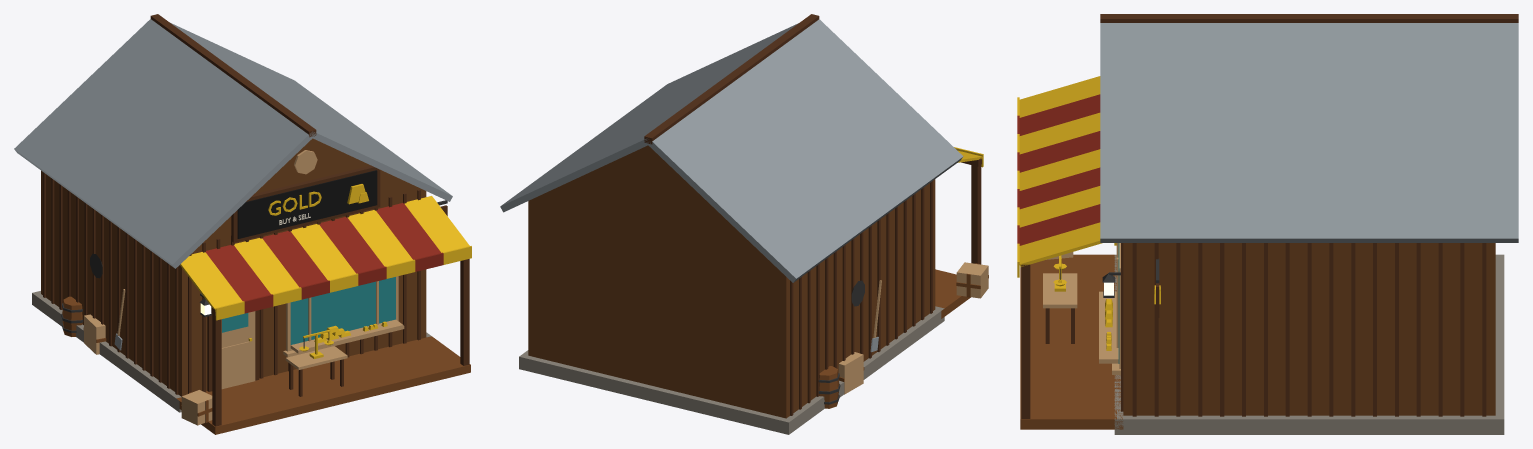
File: Building_GoldShop.fbx
3 renders of one model, left to right at view 1: azimuth 30°, elevation 25°; view 2: azimuth 150°, elevation 25°; view 3: azimuth 270°, elevation 25°, orthographic. The views are drawn at different scales.
Parts seen in each view (by area): view 1: Building_GoldShop; view 2: Building_GoldShop; view 3: Building_GoldShop.
Part boxes in pixels (<box>): Building_GoldShop: <box>14,14,471,434</box>; Building_GoldShop: <box>500,14,988,434</box>; Building_GoldShop: <box>1017,14,1518,434</box>.
Bounding box in the file's own units: 7.98 × 6.47 × 8.75.
